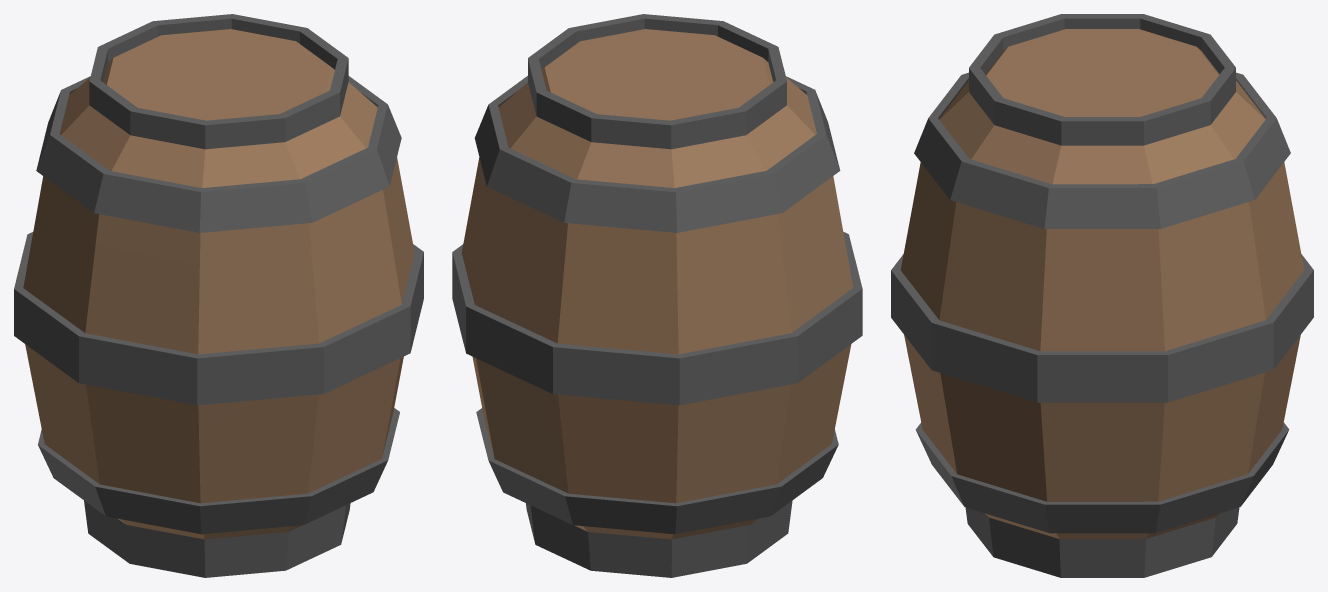
Rendered from barrel_b006.glb.
3 renders of one model, left to right at view 1: azimuth 30°, elevation 25°; view 2: azimuth 150°, elevation 25°; view 3: azimuth 270°, elevation 25°, orthographic.
Parts seen in each view (by area): view 1: barrel_b006; view 2: barrel_b006; view 3: barrel_b006.
Part boxes in pixels (left/top/right/bottom): barrel_b006: left=14, top=14, right=423, bottom=577; barrel_b006: left=452, top=14, right=862, bottom=577; barrel_b006: left=891, top=14, right=1313, bottom=577.
Bounding box in the file's own units: 0.2986 × 0.3735 × 0.3138.
Materials: 1 (1 with a texture image).
